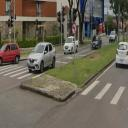NoVirarEsquerda: (72, 22, 76, 34)
speed_limit_50: (123, 23, 126, 29)
